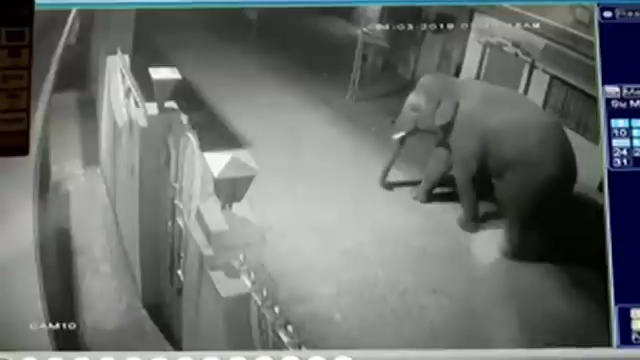Elephant: (379, 73, 578, 261)
